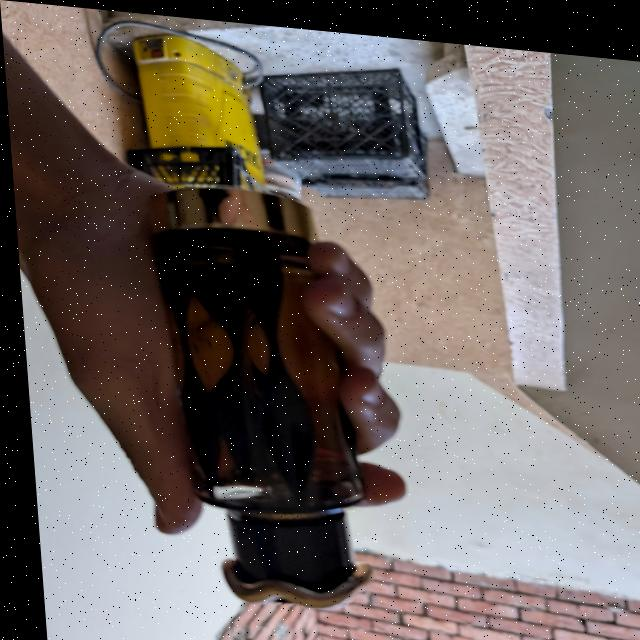Teriaq-Intense: (122, 168, 374, 613)
